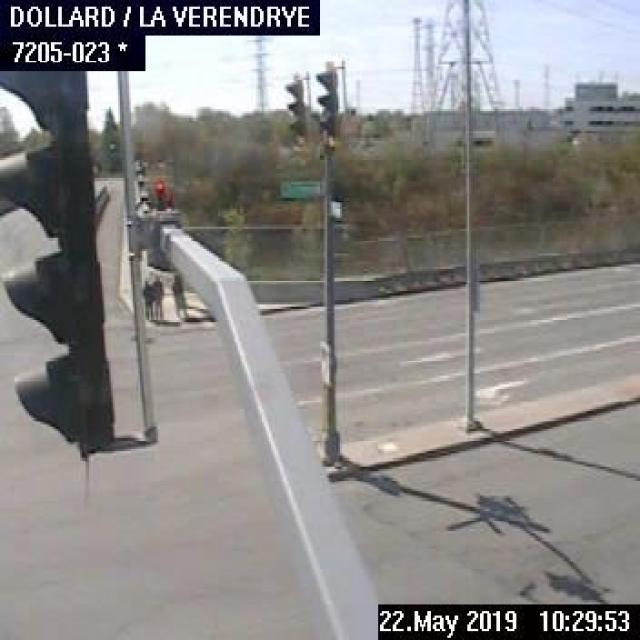pedestrian: (169, 273, 187, 318), (150, 273, 162, 320), (140, 277, 152, 320)
